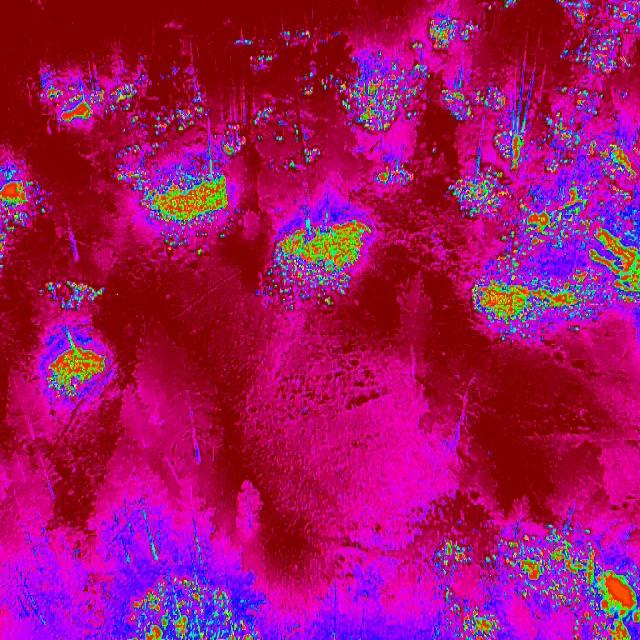fire: (447, 80, 640, 340), (418, 517, 637, 640), (113, 109, 249, 239), (262, 198, 376, 303), (242, 29, 326, 170), (323, 37, 435, 137), (121, 566, 262, 640), (40, 274, 114, 404), (18, 62, 148, 121), (558, 0, 640, 79), (0, 142, 46, 266), (370, 160, 424, 204), (426, 13, 478, 58)
